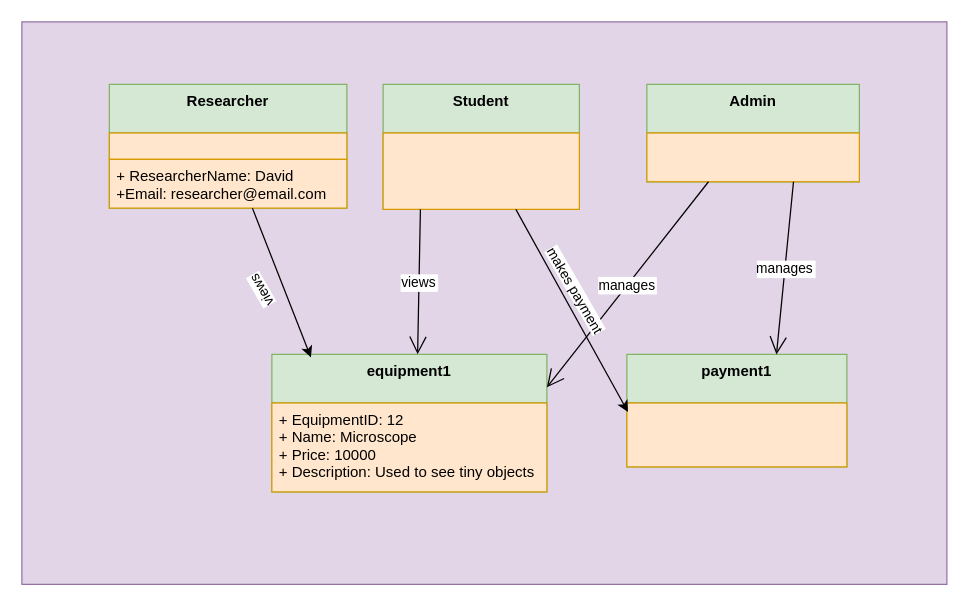
The diagram is 968 pixels wide and 606 high, and some of its shapes have lost their labels. Each missing label, with the centre of its shape:
"+ PaymentID: 1 + Amount: 10000 +Date: 2/03/2025" belongs at pixel 736 434.
"+ ReasearcherID: 123" belongs at pixel 227 145.
"+studentID: 345 +studentName: Swathi +Email: swa@gmail.com" belongs at pixel 480 170.
"AdminID: 456 Email: admin123@gmail.com" belongs at pixel 752 157.
